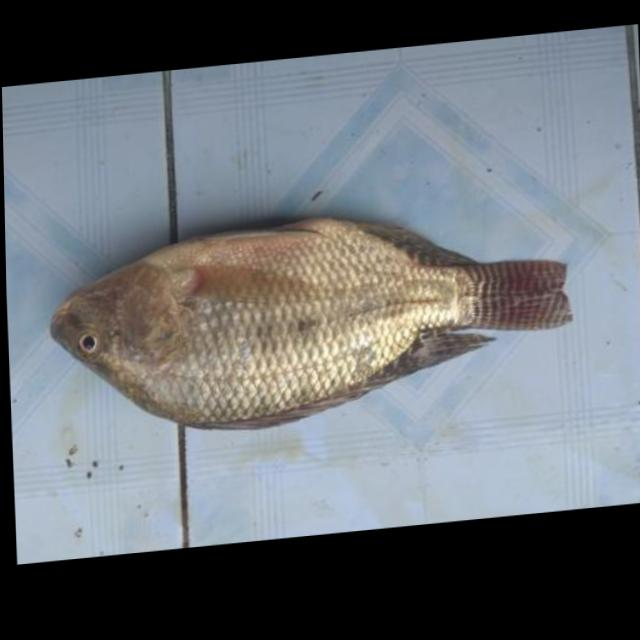Tilapia: (45, 186, 580, 449)
